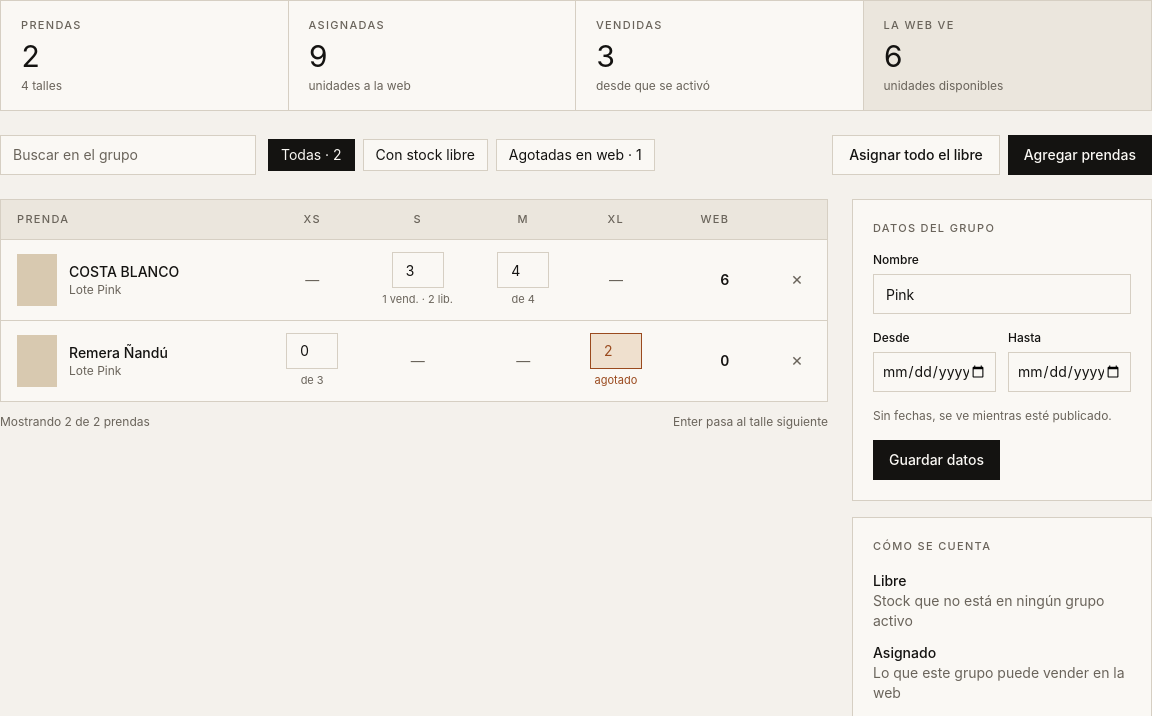
Test: GroupWorkspace › unsaved changes › keeps the changes and shows the refusal when the save fails
The width and height of the screenshot is (1152, 716).
Replace the text in the number field named "Asignado: COSTA BLANCO, talle S" with "9" at (418, 270), box [392,252,444,288]
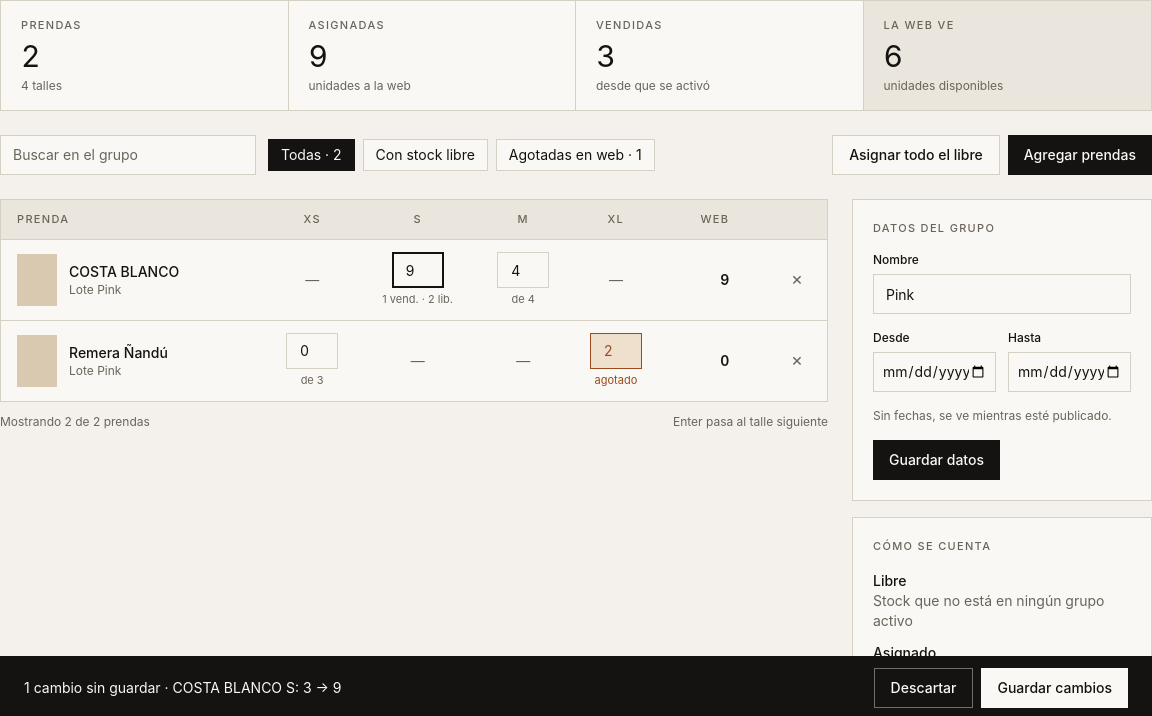
Click the button "Guardar cambios".
click(1055, 688)  # box [982,668,1128,708]
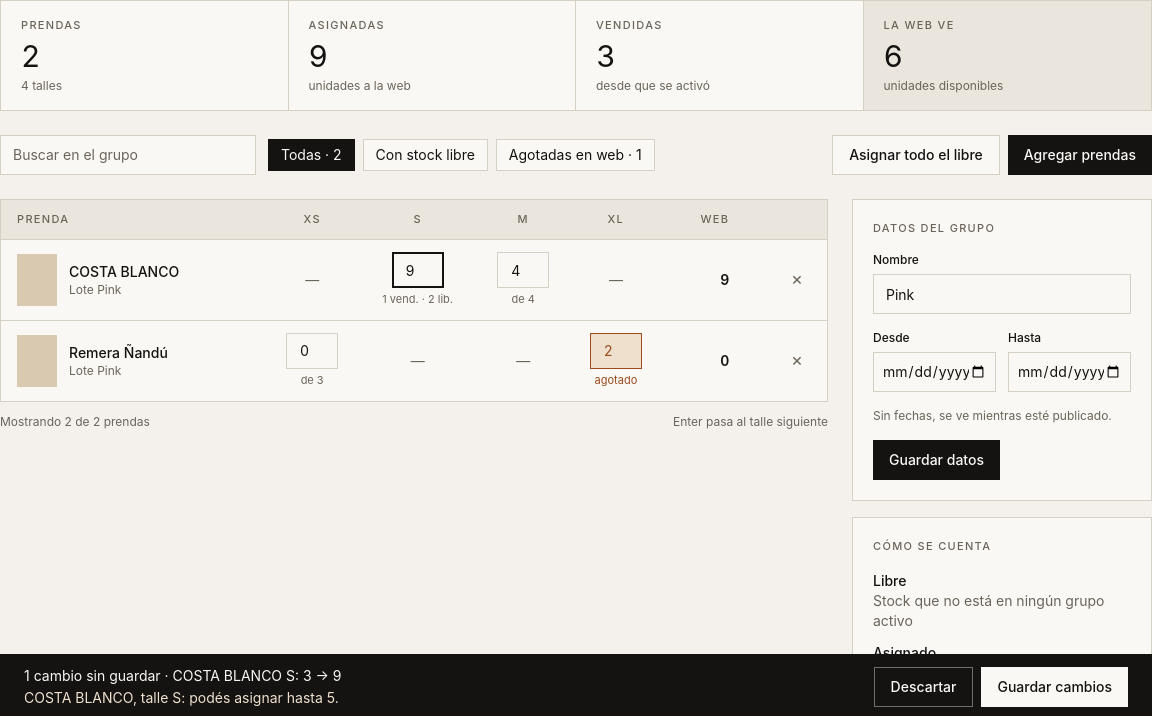
Check: the button "Guardar cambios" is shown, box [982,667,1128,707]
Check: the message shows "podés asignar hasta 5", box [24,689,339,706]
